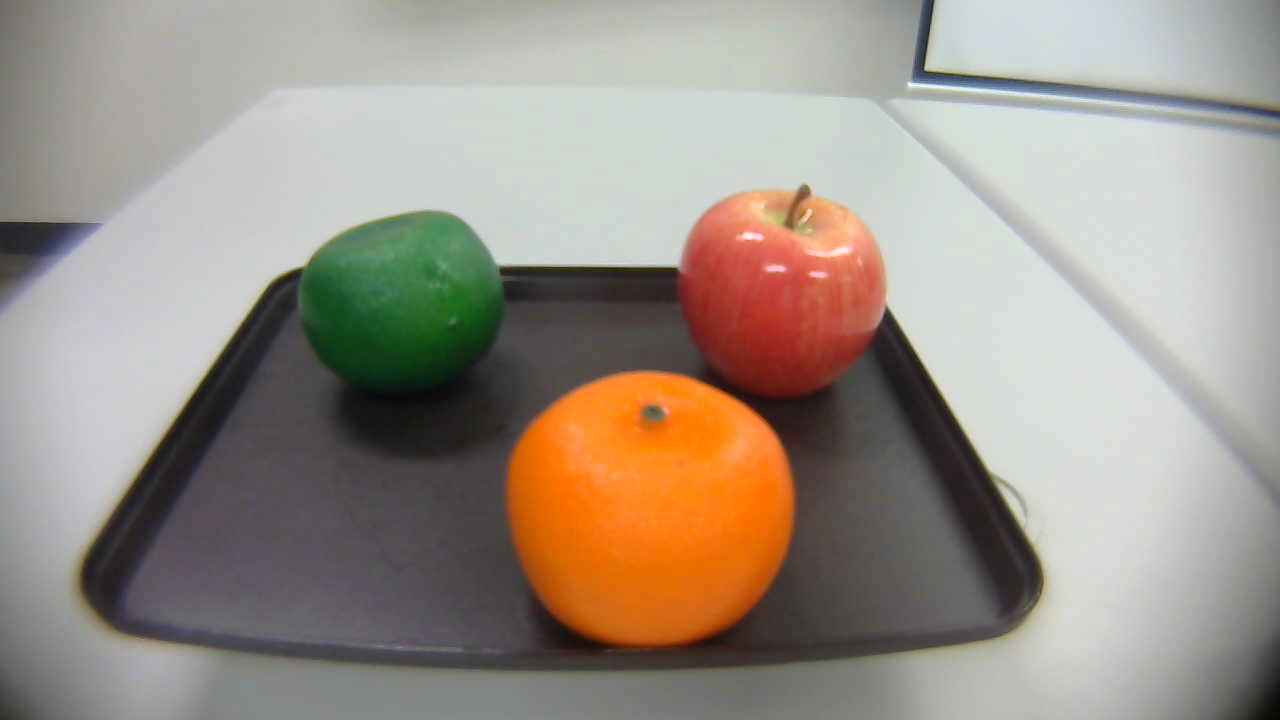green orange: (289, 209, 513, 391)
orange: (497, 356, 809, 645)
red apple: (667, 182, 897, 414)
